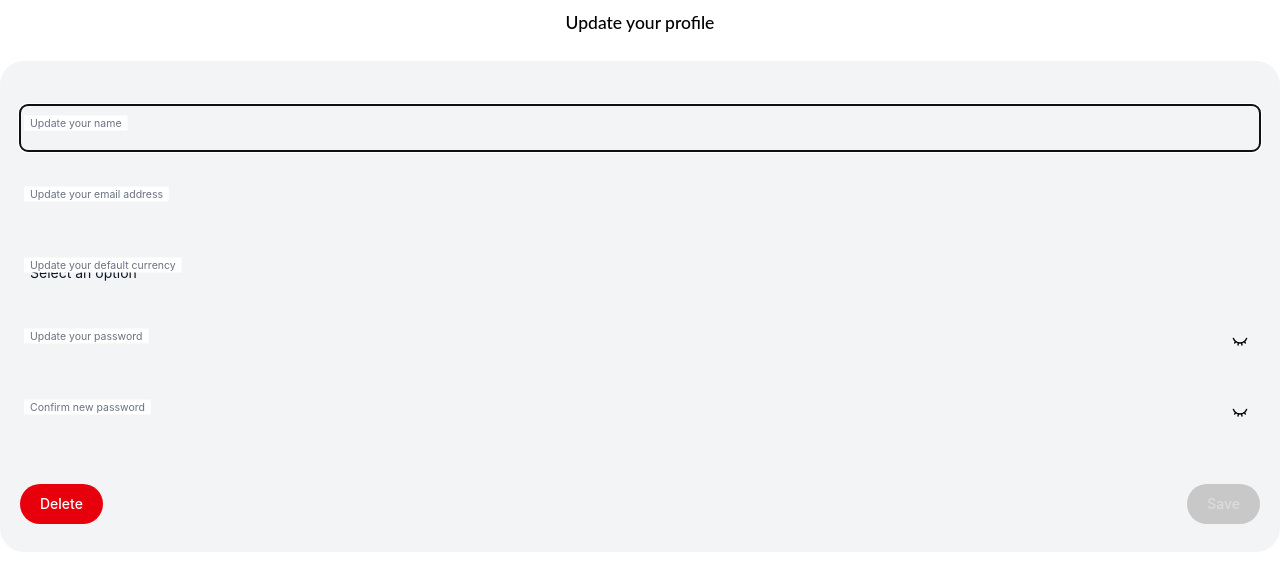
SettingsPage page › asks for confirmation to delete the user
This screenshot has width=1280, height=587.
Click the button "Delete".
click(61, 504)  # box top-left (20, 484), bottom-right (103, 524)
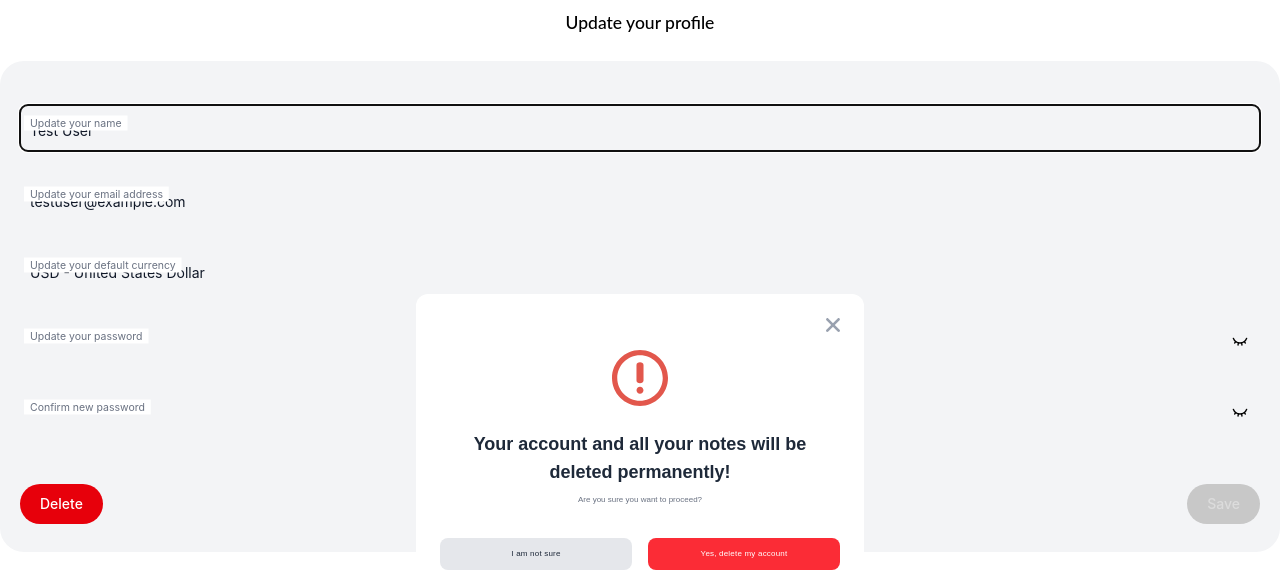
Expected: the heading "Your account and all your notes will be deleted permanently!" is shown, top-left (474, 434), bottom-right (806, 482)
Expected: the text "Are you sure you want to proceed?" is shown, top-left (578, 495), bottom-right (702, 504)
